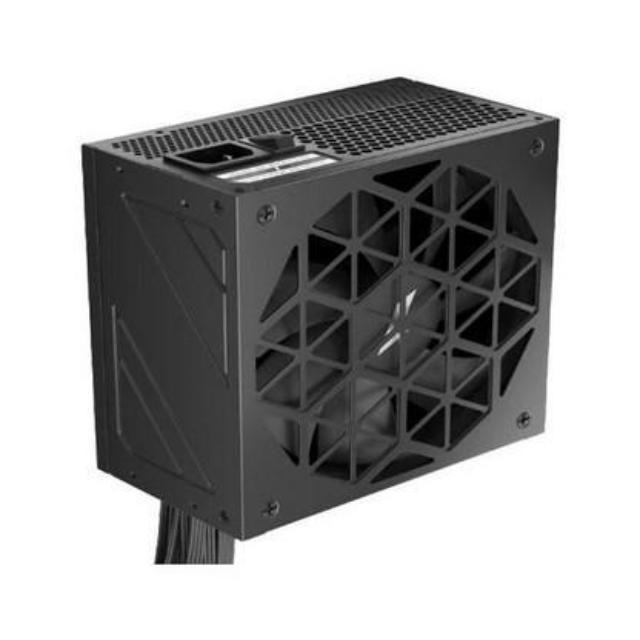PSU: (77, 66, 569, 544)
